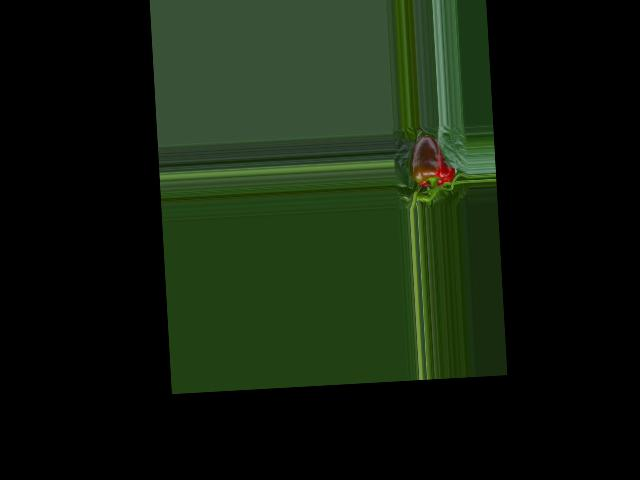bell_pepper: (403, 130, 458, 194)
